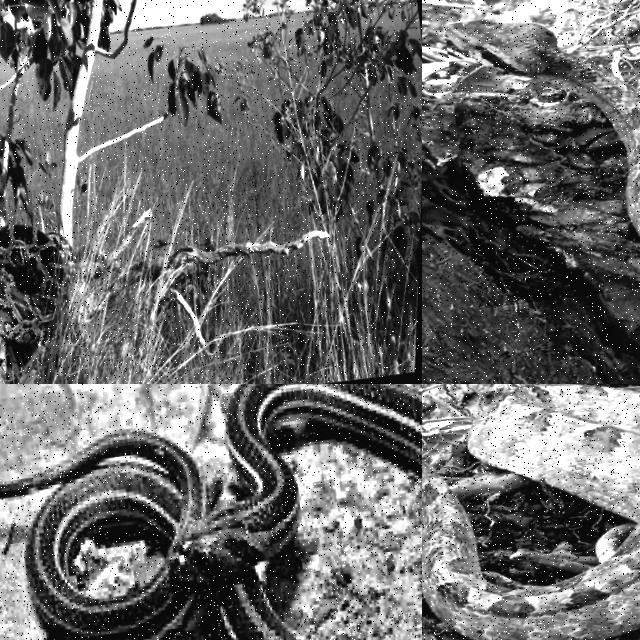Calliophis intestinalis: (0, 384, 421, 639)
Calloselasma rhodostoma: (422, 390, 639, 639), (444, 22, 639, 238)
Python bivittatus: (0, 225, 64, 344)
